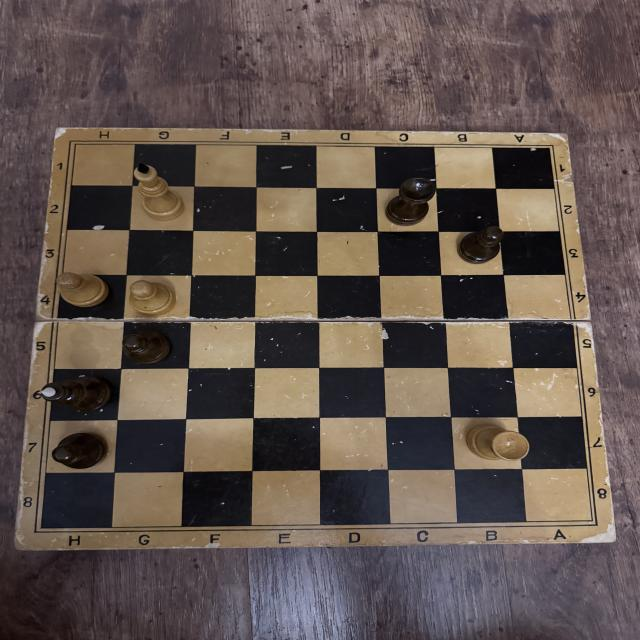black-king: (38, 375, 114, 413)
black-pawn: (51, 432, 111, 469), (120, 328, 175, 366), (456, 226, 504, 264)
black-rook: (382, 176, 436, 227)
white-king: (134, 162, 185, 222)
white-pawn: (56, 272, 108, 308), (129, 280, 174, 316)
white-rook: (468, 424, 531, 462)
